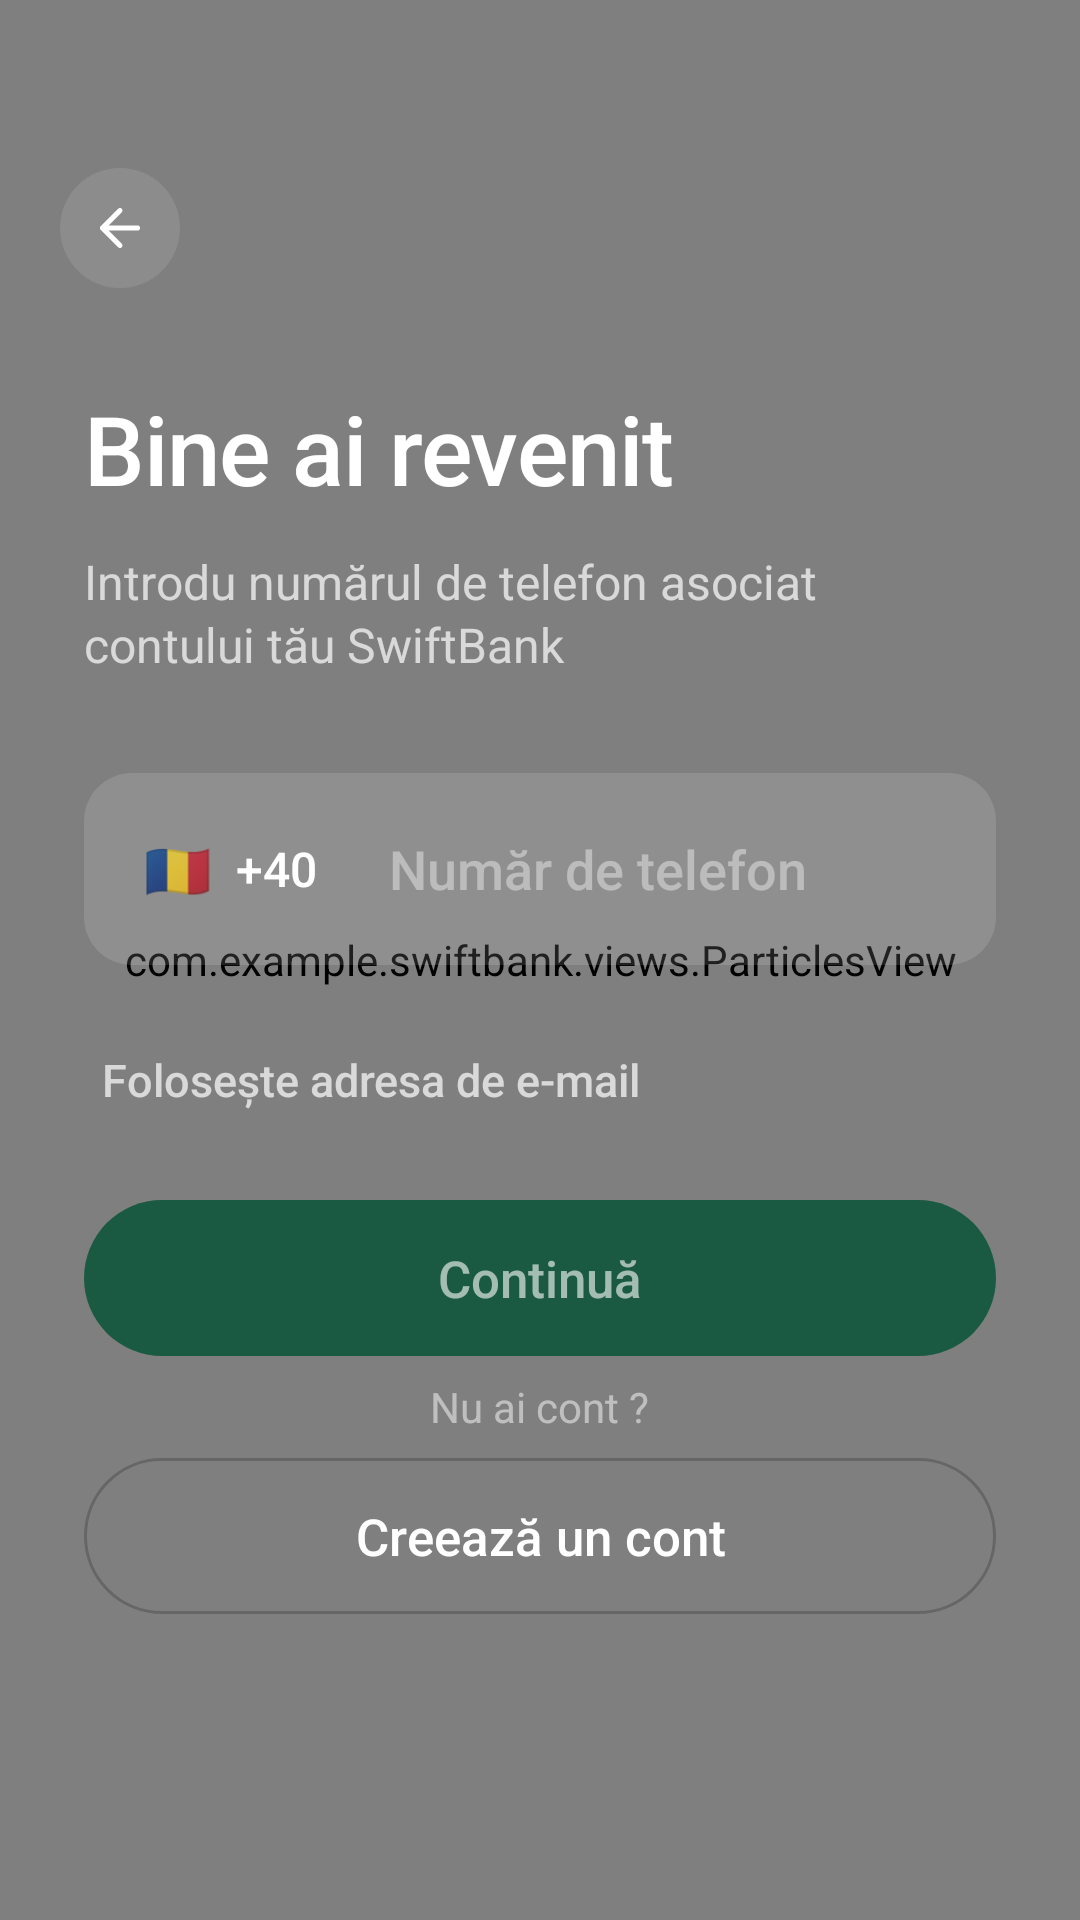

Screen size 1080px×1920px. Icon name, then its box in pixels as (x1, y1, x2, y2):
arrow back: (60, 168, 180, 288)
